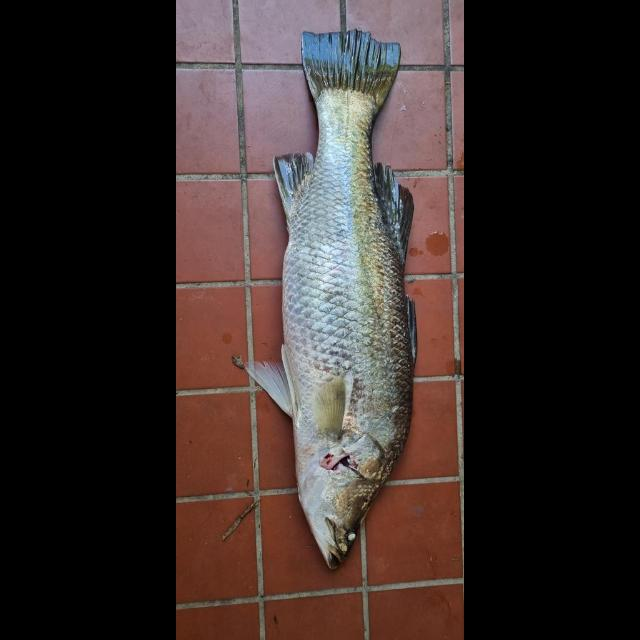Seabass: (240, 28, 418, 570)
